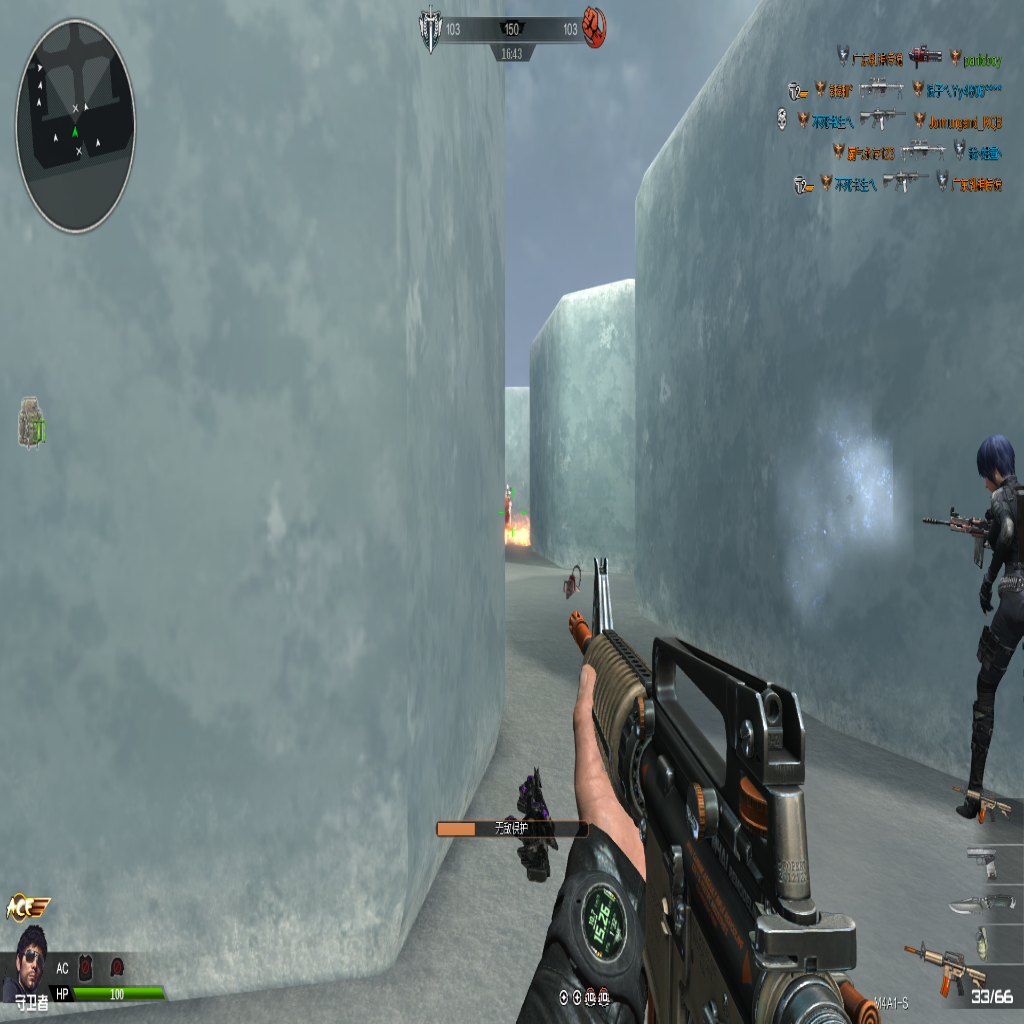ct: (955, 435, 1022, 820)
